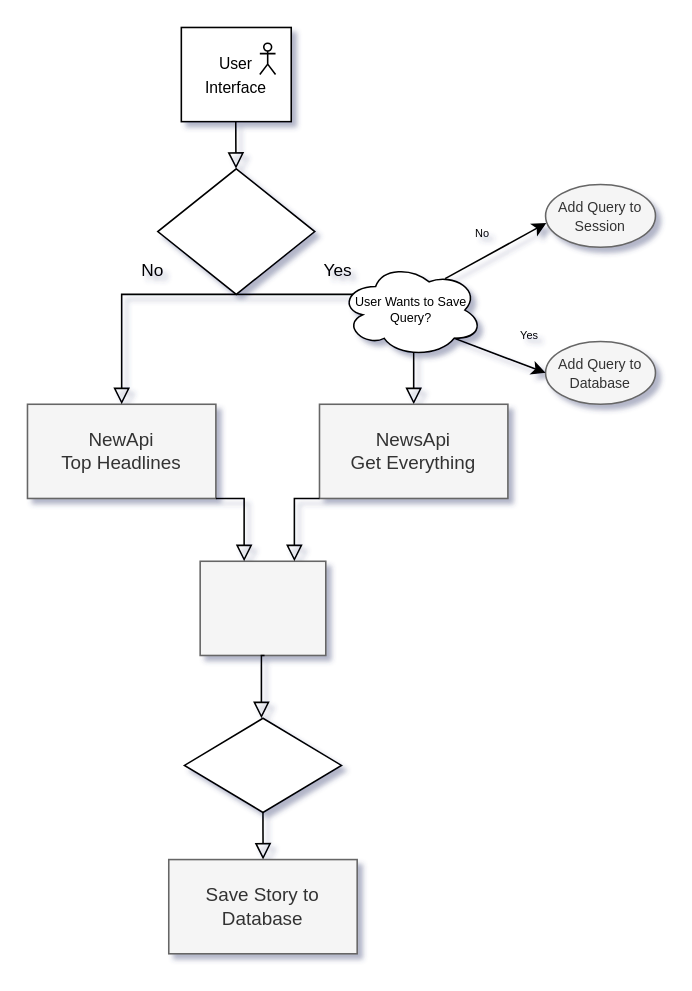
The diagram is 692 pixels wide and 991 high, and some of its shapes have lost their labels. The box of each missing label's shape, as (x1, y1, x2, y2) in pixels:
Save Results to Session: (199, 560, 326, 655)
User Making Search Query?: (156, 167, 315, 294)
User Wants to Save Story?: (183, 717, 341, 812)
